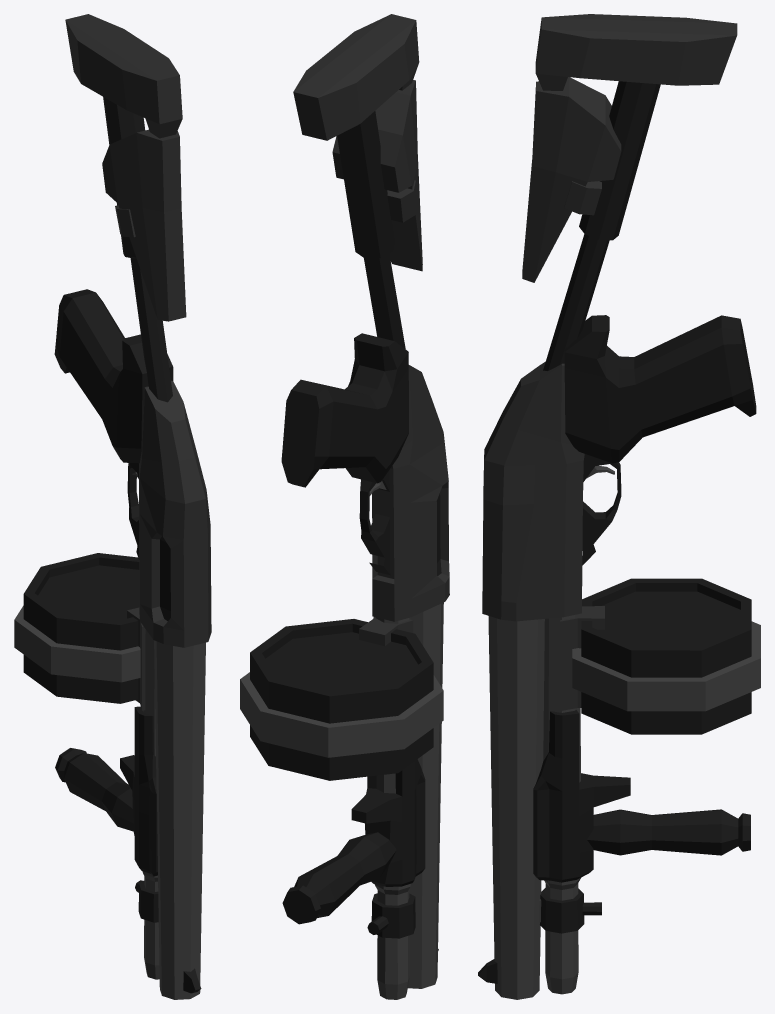
Rendered from RiotShotgunPhysicsProp.glb.
3 views of the same model, side by side, from view 1: azimuth 30°, elevation 25°; view 2: azimuth 150°, elevation 25°; view 3: azimuth 270°, elevation 25° (orthographic). The views are drawn at different scales.
Parts seen in each view (by area): view 1: Renderer; view 2: Renderer; view 3: Renderer.
Part boxes in pixels (x1=…): Renderer: x1=14, y1=14, x2=211, y2=999; Renderer: x1=240, y1=14, x2=449, y2=999; Renderer: x1=478, y1=14, x2=760, y2=999.
Size of the model in its own units: 0.3207 by 1.81 by 0.4806.
Materials: 1 (1 with a texture image).
